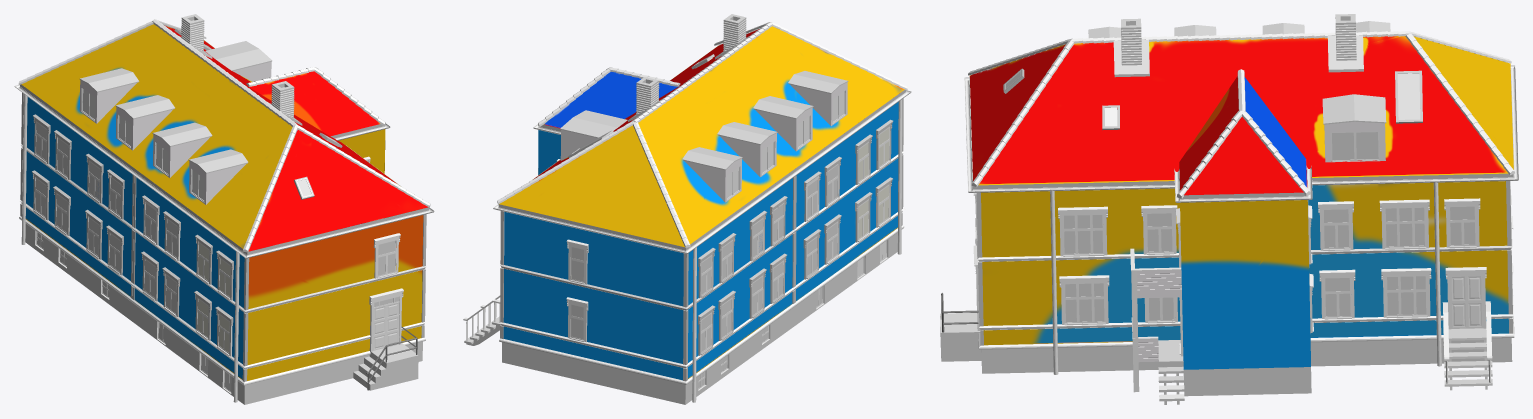
File: house_colorized_2.glb
3 renders of one model, left to right at view 1: azimuth 30°, elevation 25°; view 2: azimuth 150°, elevation 25°; view 3: azimuth 270°, elevation 25°, orthographic. The views are drawn at different scales.
Visible parts, largest first — view 1: SketchUp.874, SketchUp.1040, SketchUp.865, SketchUp.002, SketchUp.511, SketchUp.484, SketchUp.001, SketchUp.872, SketchUp.015, SketchUp.057, SketchUp.052, SketchUp.734 (+19 smaller); view 2: SketchUp.874, SketchUp.1040, SketchUp.002, SketchUp.865, SketchUp.511, SketchUp.484, SketchUp.001, SketchUp.872, SketchUp.057, SketchUp.052, SketchUp.734, SketchUp.522 (+14 smaller); view 3: SketchUp.1040, SketchUp.874, SketchUp.868, SketchUp.865, SketchUp.002, SketchUp, SketchUp.511, SketchUp.872, SketchUp.734, SketchUp.057, SketchUp.484, SketchUp.019 (+30 smaller).
Part boxes in pixels (bbox=[...]): SketchUp.874: bbox=[25, 97, 423, 380]; SketchUp.1040: bbox=[21, 24, 428, 251]; SketchUp.865: bbox=[249, 71, 380, 136]; SketchUp.002: bbox=[25, 224, 422, 404]; SketchUp.511: bbox=[14, 40, 434, 258]; SketchUp.484: bbox=[19, 216, 425, 385]; SketchUp.001: bbox=[109, 286, 199, 370]; SketchUp.872: bbox=[20, 84, 428, 255]; SketchUp.015: bbox=[353, 351, 418, 390]; SketchUp.057: bbox=[20, 200, 425, 369]; SketchUp.052: bbox=[21, 144, 426, 313]; SketchUp.734: bbox=[205, 41, 272, 71]; SketchUp.874: bbox=[503, 102, 898, 380]; SketchUp.1040: bbox=[499, 26, 904, 247]; SketchUp.002: bbox=[502, 232, 897, 404]; SketchUp.865: bbox=[544, 72, 678, 128]; SketchUp.511: bbox=[493, 48, 911, 253]; SketchUp.484: bbox=[499, 225, 904, 384]; SketchUp.001: bbox=[770, 262, 857, 343]; SketchUp.872: bbox=[498, 89, 905, 250]; SketchUp.057: bbox=[499, 209, 903, 368]; SketchUp.052: bbox=[500, 153, 902, 310]; SketchUp.734: bbox=[560, 110, 627, 138]; SketchUp.522: bbox=[790, 82, 847, 126]; SketchUp.1040: bbox=[969, 36, 1513, 185]; SketchUp.874: bbox=[981, 109, 1508, 345]; SketchUp.868: bbox=[1180, 200, 1310, 369]; SketchUp.865: bbox=[1179, 76, 1307, 195]; SketchUp.002: bbox=[981, 338, 1512, 373]; SketchUp: bbox=[1183, 366, 1311, 396]; SketchUp.511: bbox=[964, 65, 1518, 192]; SketchUp.872: bbox=[969, 77, 1513, 189]; SketchUp.734: bbox=[1322, 94, 1386, 124]; SketchUp.057: bbox=[975, 218, 1513, 330]; SketchUp.484: bbox=[975, 240, 1514, 349]; SketchUp.019: bbox=[1137, 270, 1181, 298].
Size of the model in its own units: 13.74 by 14.23 by 22.92.
22 materials, 5 textured.
